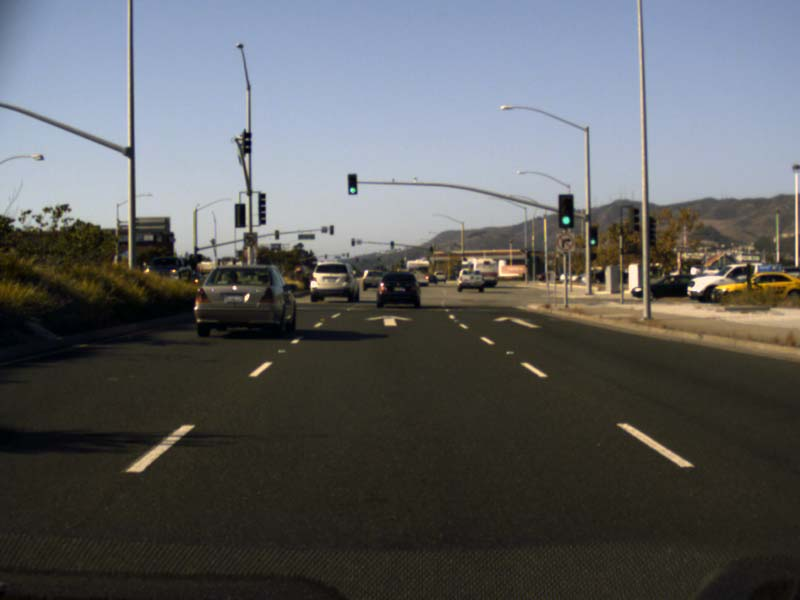Green: (556, 194, 573, 228), (347, 173, 357, 195), (588, 225, 596, 245)
